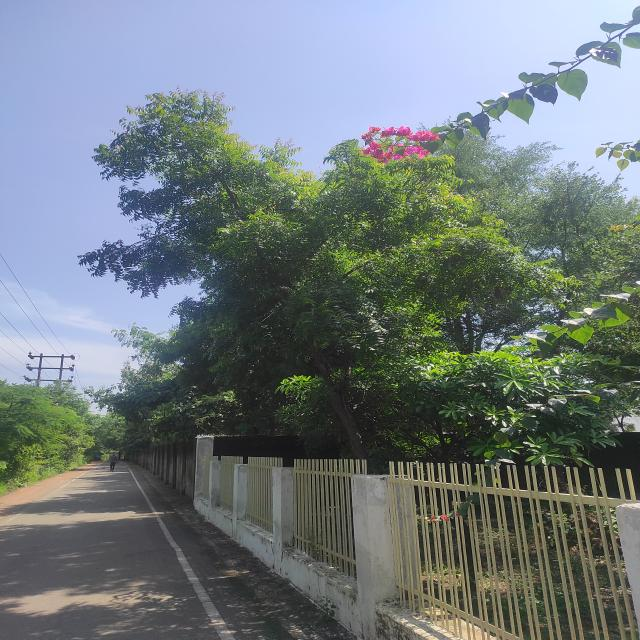Neem Tree: (143, 91, 427, 424)
